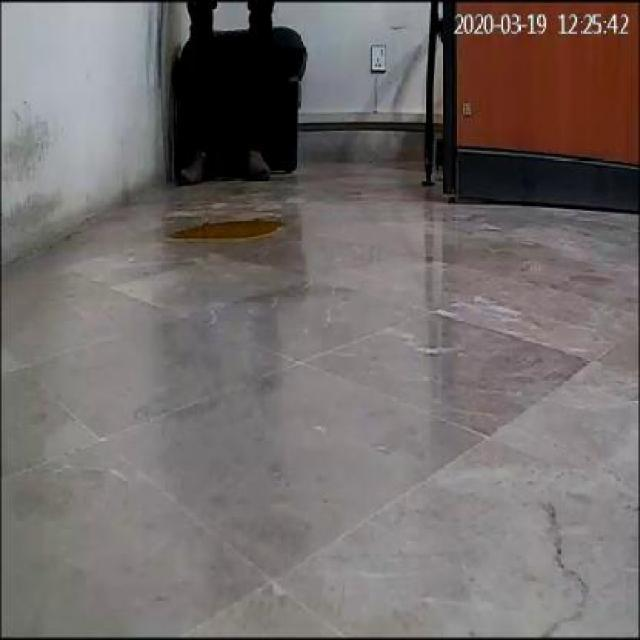spill: (162, 218, 286, 244)
